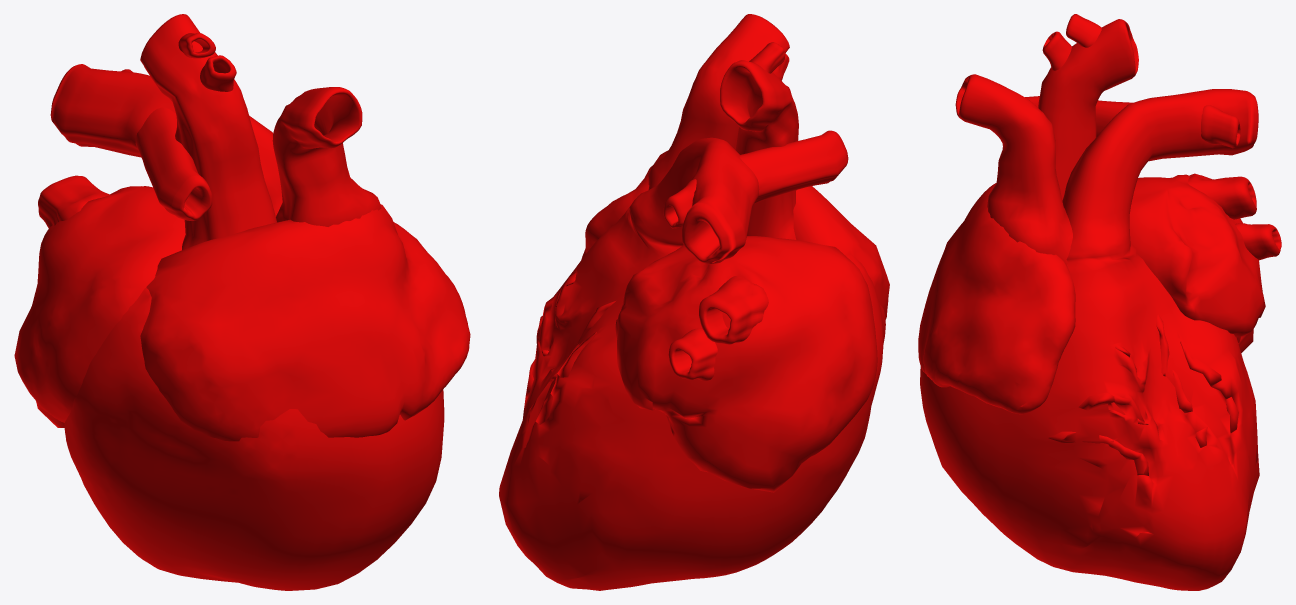
The model's file is chess_boss.fbx.
3 views of the same model, side by side, from view 1: azimuth 30°, elevation 25°; view 2: azimuth 150°, elevation 25°; view 3: azimuth 270°, elevation 25° (orthographic). The views are drawn at different scales.
Visible parts, largest first — view 1: Sphere.001; view 2: Sphere.001; view 3: Sphere.001.
Boxes of the visible parts, left/top/right/bottom form: Sphere.001: left=14, top=14, right=470, bottom=590; Sphere.001: left=499, top=14, right=889, bottom=590; Sphere.001: left=918, top=14, right=1281, bottom=590.
Size of the model in its own units: 201 by 313 by 200.
